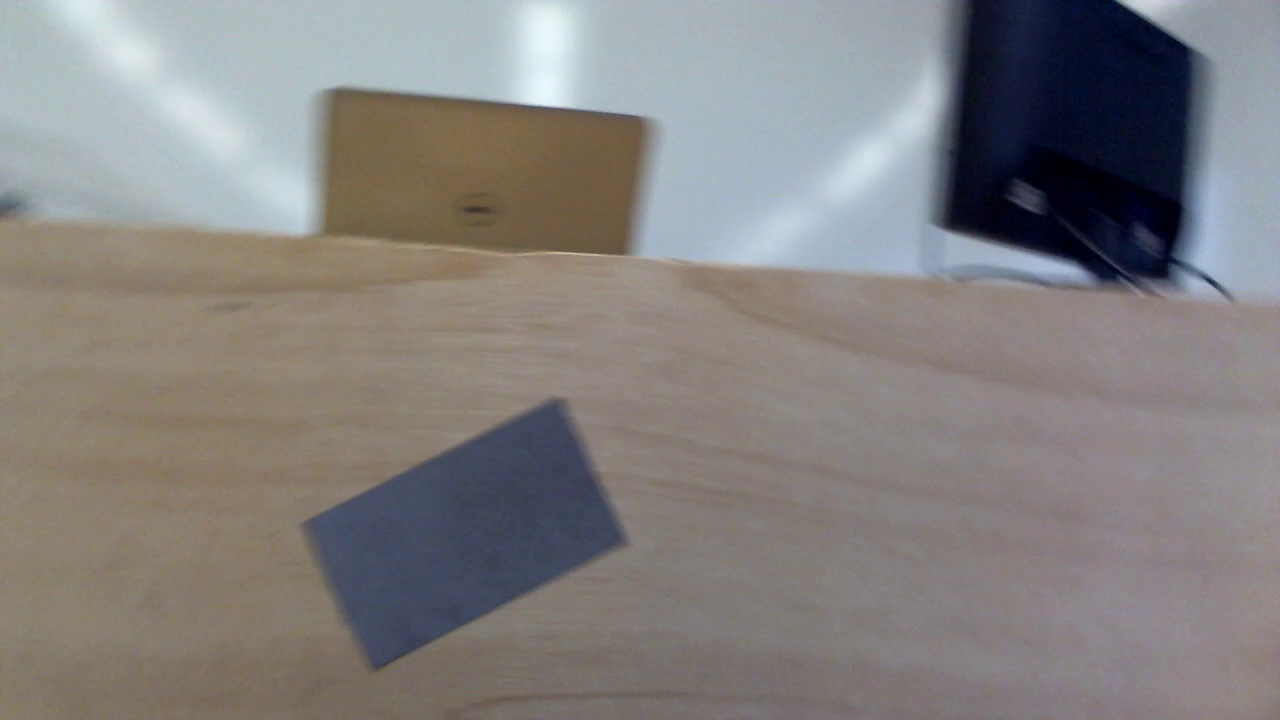Tape: (299, 400, 630, 674)
